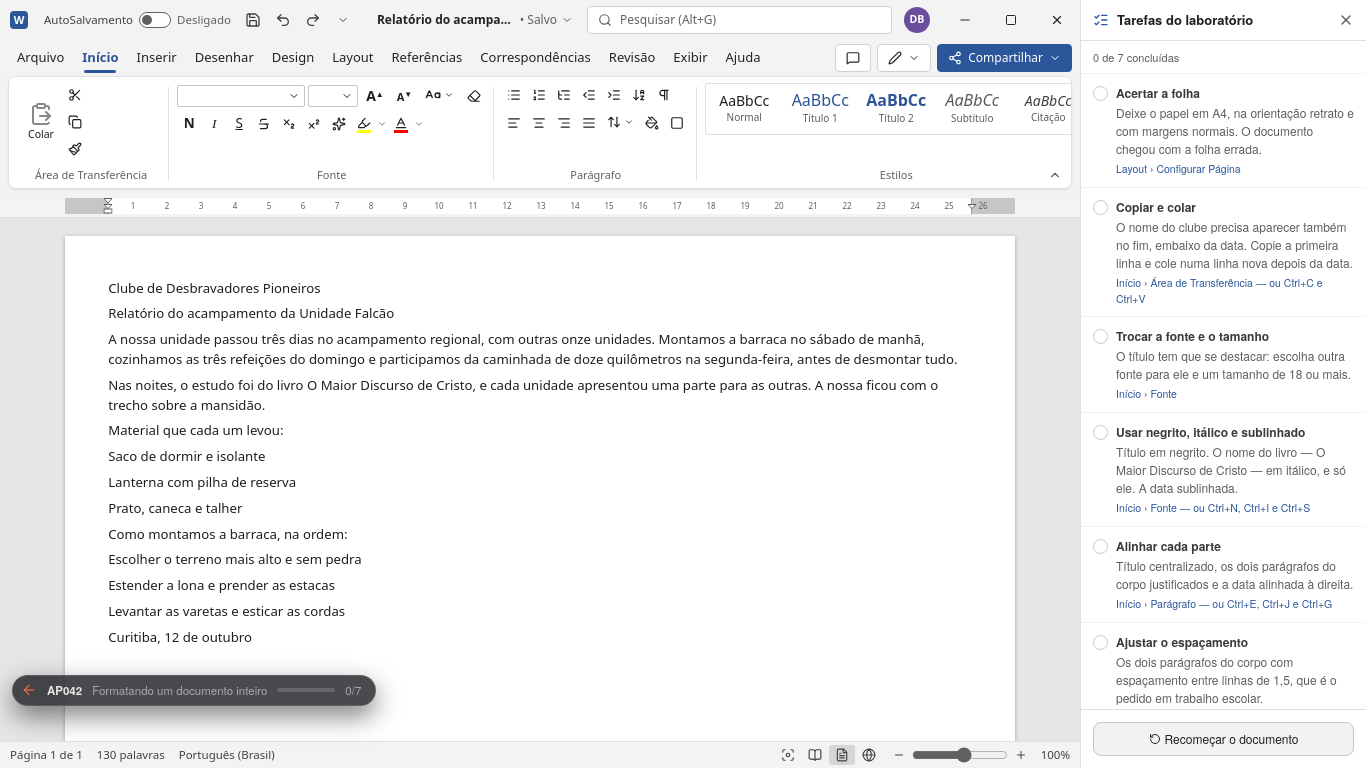
a faixa de opções › abre o menu de Margens e o deixa aberto
This screenshot has width=1366, height=768.
Click the tab "Layout": click(353, 58) left=323, top=40, right=382, bottom=76
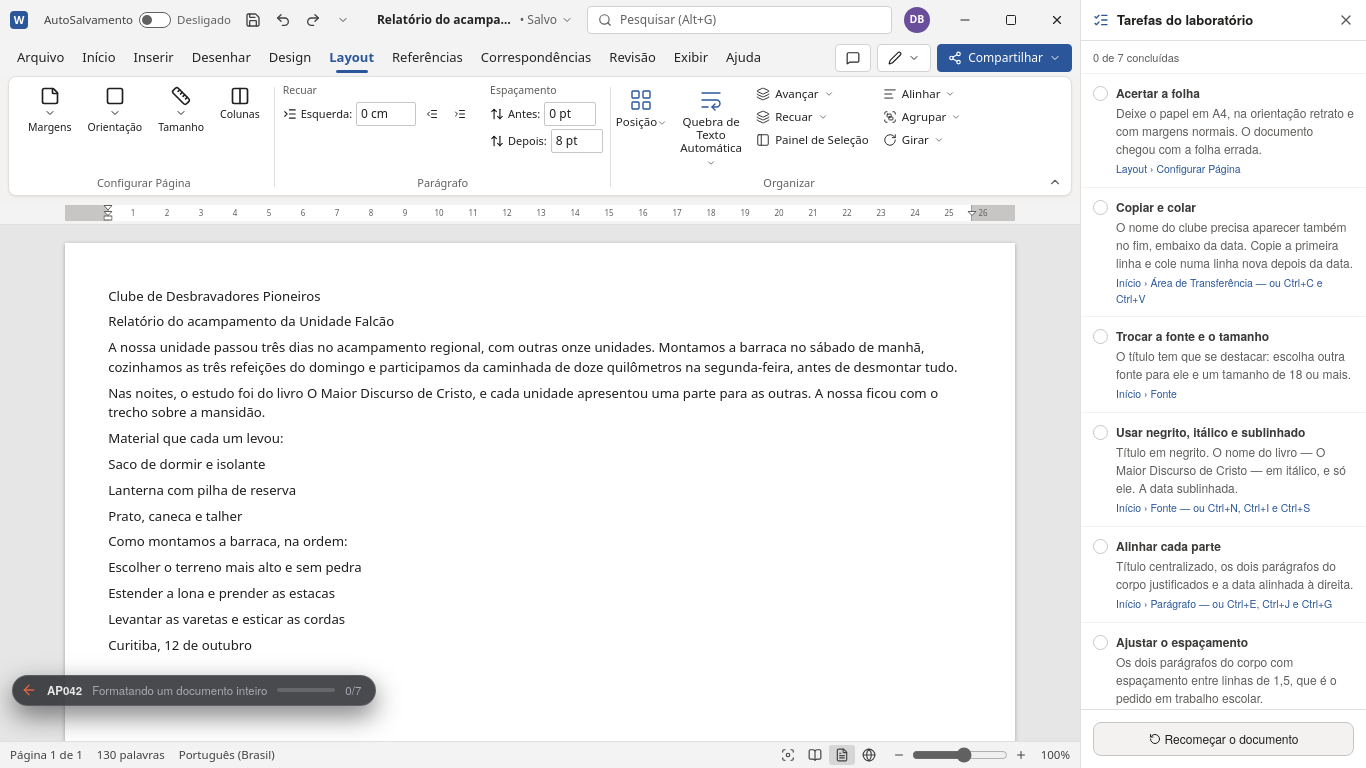
Click the button "Margens": click(50, 111) left=21, top=83, right=78, bottom=139
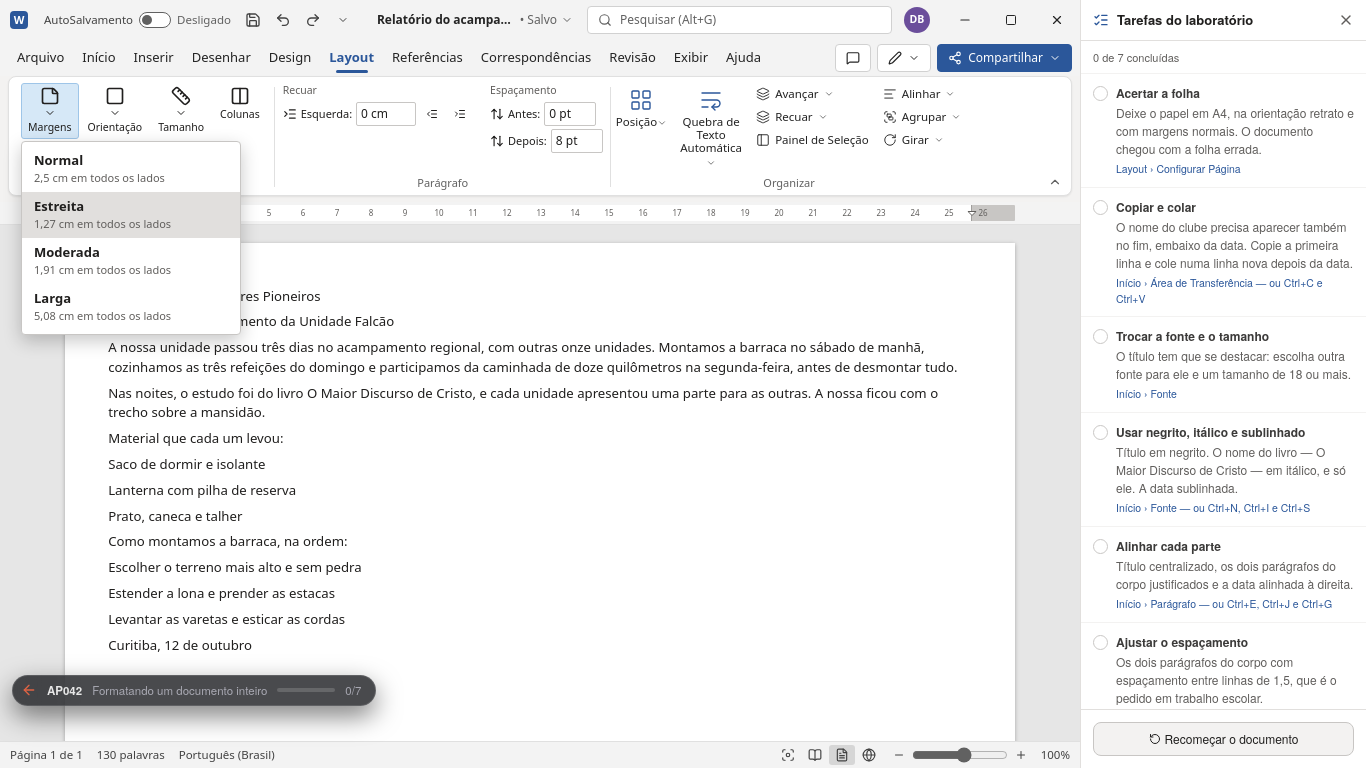
Expected: the list with class "wd-lista-suspensa" is shown, left=21, top=141, right=241, bottom=335
Expected: the text "2,5 cm em todos os lados" is shown, left=34, top=170, right=165, bottom=187
